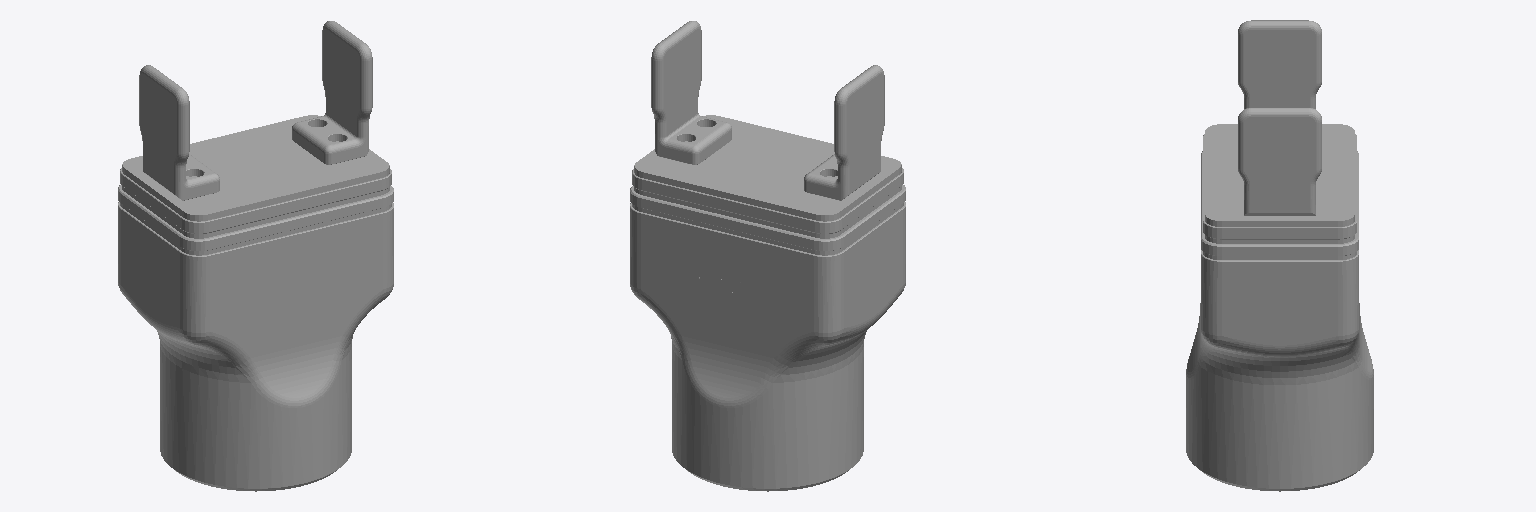
URDF robot description (2fg7_outwards):
<?xml version="1.0" ?>
<!-- =================================================================================== -->
<!-- |    This document was autogenerated by xacro from urdf/onrobot_2fg7_upload.xacro | -->
<!-- |    EDITING THIS FILE BY HAND IS NOT RECOMMENDED                                 | -->
<!-- =================================================================================== -->
<robot name="2fg7_outwards">
  <material name="silver">
    <color rgba="0.700 0.700 0.700 1.000"/>
  </material>
  <gazebo reference="gripper_base_link">
    <material>Gazebo/Grey</material>
    <implicitSpringDamper>1</implicitSpringDamper>
    <mu1>0.2</mu1>
    <mu2>0.2</mu2>
    <kp>100000000.0</kp>
    <kd>1.0</kd>
    <selfCollide>true</selfCollide>
    <gravity>true</gravity>
  </gazebo>
  <gazebo reference="right_finger_link">
    <material>Gazebo/Grey</material>
    <implicitSpringDamper>1</implicitSpringDamper>
    <mu1>0.2</mu1>
    <mu2>0.2</mu2>
    <kp>100000000.0</kp>
    <kd>1.0</kd>
    <selfCollide>true</selfCollide>
  </gazebo>
  <gazebo reference="left_finger_link">
    <material>Gazebo/Grey</material>
    <implicitSpringDamper>1</implicitSpringDamper>
    <mu1>0.2</mu1>
    <mu2>0.2</mu2>
    <kp>100000000.0</kp>
    <kd>1.0</kd>
    <selfCollide>true</selfCollide>
  </gazebo>
  <transmission name="left_finger_joint_tran">
    <type>transmission_interface/SimpleTransmission</type>
    <joint name="left_finger_joint">
      <hardwareInterface>hardware_interface/PositionJointInterface</hardwareInterface>
    </joint>
    <actuator name="left_finger_joint_motor">
      <hardwareInterface>hardware_interface/PositionJointInterface</hardwareInterface>
      <mechanicalReduction>1</mechanicalReduction>
    </actuator>
  </transmission>
  <link name="base_link">
    <inertial>
      <origin rpy="0 0 0" xyz="-4.898915958379213e-05 2.84756960271082e-06 0.06811082379774974"/>
      <mass value="1.2646523179240972"/>
      <inertia ixx="0.001504" ixy="-0.0" ixz="-3e-06" iyy="0.001812" iyz="0.0" izz="0.001053"/>
    </inertial>
    <visual>
      <origin rpy="0 0 0" xyz="0 0 0"/>
      <geometry>
        <mesh filename="package://onrobot_2fg7_description/meshes/base_link.stl" scale="0.001 0.001 0.001"/>
      </geometry>
      <material name="silver"/>
    </visual>
    <collision>
      <origin rpy="0 0 0" xyz="0 0 0"/>
      <geometry>
        <mesh filename="package://onrobot_2fg7_description/meshes/base_link.stl" scale="0.001 0.001 0.001"/>
      </geometry>
    </collision>
  </link>
  <link name="right_finger_link">
    <inertial>
      <origin rpy="0 0 0" xyz="0.017874296677847158 0.02949104051991925 0.01523421548622829"/>
      <mass value="0.023219383355922288"/>
      <inertia ixx="6e-06" ixy="-0.0" ixz="1e-06" iyy="5e-06" iyz="-0.0" izz="2e-06"/>
    </inertial>
    <visual>
      <origin rpy="0 0 0" xyz="0.054361 0.029494 -0.12005"/>
      <geometry>
        <mesh filename="package://onrobot_2fg7_description/meshes/right_finger_link.stl" scale="0.001 0.001 0.001"/>
      </geometry>
      <material name="silver"/>
    </visual>
    <collision name="right_finger_collision">
      <origin rpy="0 0 0" xyz="0.054361 0.029494 -0.12005"/>
      <geometry>
        <mesh filename="package://onrobot_2fg7_description/meshes/right_finger_link.stl" scale="0.001 0.001 0.001"/>
      </geometry>
    </collision>
  </link>
  <link name="left_finger_link">
    <inertial>
      <origin rpy="0 0 0" xyz="0.004247703322119739 0.029496959480080673 0.015234215486237948"/>
      <mass value="0.023219383355922288"/>
      <inertia ixx="6e-06" ixy="-0.0" ixz="-1e-06" iyy="5e-06" iyz="0.0" izz="2e-06"/>
    </inertial>
    <visual>
      <origin rpy="0 0 0" xyz="-0.032239 0.029494 -0.12005"/>
      <geometry>
        <mesh filename="package://onrobot_2fg7_description/meshes/left_finger_link.stl" scale="0.001 0.001 0.001"/>
      </geometry>
      <material name="silver"/>
    </visual>
    <collision name="left_finger_collision">
      <origin rpy="0 0 0" xyz="-0.032239 0.029494 -0.12005"/>
      <geometry>
        <mesh filename="package://onrobot_2fg7_description/meshes/left_finger_link.stl" scale="0.001 0.001 0.001"/>
      </geometry>
    </collision>
  </link>
  <joint name="left_finger_joint" type="prismatic">
    <origin rpy="0 0 0" xyz="0.032239 -0.029494 0.12005"/>
    <parent link="base_link"/>
    <child link="left_finger_link"/>
    <axis xyz="-1.0 0.0 0.0"/>
    <limit effort="140" lower="0.0" upper="0.019" velocity="0.45"/>
    <!-- total 0.38 -->
  </joint>
  <joint name="right_finger_joint" type="prismatic">
    <origin rpy="0 0 0" xyz="-0.054361 -0.029494 0.12005"/>
    <parent link="base_link"/>
    <child link="right_finger_link"/>
    <axis xyz="1.0 0.0 0.0"/>
    <limit effort="140" lower="-0.019" upper="0.019" velocity="0.45"/>
    <mimic joint="left_finger_joint" multiplier="1.0"/>
  </joint>
  <link name="world"/>
  <joint name="world_joint" type="fixed">
    <parent link="world"/>
    <child link="base_link"/>
    <origin rpy="0.0 0.0 0.0" xyz="0.0 0.0 0.0"/>
  </joint>
  <gazebo>
    <plugin filename="libgazebo_grasp_fix.so" name="gazebo_grasp_fix">
      <arm>
        <arm_name>2FG7</arm_name>
        <palm_link>base_link</palm_link>
        <gripper_link>left_finger_link</gripper_link>
        <gripper_link>right_finger_link</gripper_link>
      </arm>
      <forces_angle_tolerance>80</forces_angle_tolerance>
      <update_rate>10</update_rate>
      <grip_count_threshold>1</grip_count_threshold>
      <max_grip_count>3</max_grip_count>
      <release_tolerance>0.01</release_tolerance>
      <disable_collisions_on_attach>false</disable_collisions_on_attach>
      <contact_topic>__default_topic__</contact_topic>
    </plugin>
  </gazebo>
  <gazebo>
    <!-- loading plugin: mimic joints works in gazebo now -->
    <plugin filename="libroboticsgroup_upatras_gazebo_mimic_joint_plugin.so" name="mimic_2FG7">
      <joint>left_finger_joint</joint>
      <mimicJoint>right_finger_joint</mimicJoint>
      <!--multiplier>1.0</multiplier>
              <offset>0.0</offset-->
    </plugin>
  </gazebo>
</robot>

--- Render facts (derived) ---
Views: 3 orthographic renders of the robot side by side, from view 1: azimuth 30°, elevation 25°; view 2: azimuth 150°, elevation 25°; view 3: azimuth 270°, elevation 25°.
Model 2fg7_outwards with 4 links and 3 joints (2 prismatic, 1 fixed), rooted at world, posed all joints at 0.
Visible links, largest first — view 1: base_link, left_finger_link, right_finger_link; view 2: base_link, left_finger_link, right_finger_link; view 3: base_link, left_finger_link, right_finger_link.
Boxes of the visible links, x1=… form: base_link: x1=118, y1=115, x2=393, y2=491; left_finger_link: x1=292, y1=21, x2=372, y2=164; right_finger_link: x1=139, y1=65, x2=219, y2=200; base_link: x1=630, y1=115, x2=905, y2=491; left_finger_link: x1=651, y1=21, x2=731, y2=164; right_finger_link: x1=804, y1=65, x2=884, y2=200; base_link: x1=1186, y1=124, x2=1373, y2=491; left_finger_link: x1=1238, y1=108, x2=1321, y2=215; right_finger_link: x1=1238, y1=20, x2=1321, y2=108.
Size in the robot's own frame: 0.09 by 0.071 by 0.1622 metres.
Meshes: 3 distinct files referenced, 3 mesh visuals loaded (3 binary STL).
